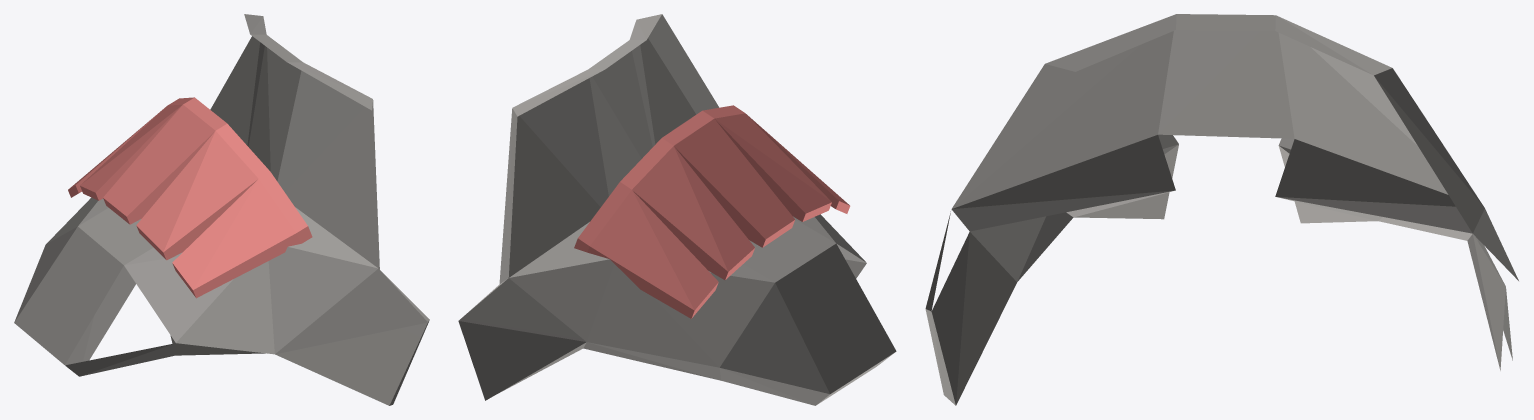
Rendered from pauldron_red_a.glb.
3 views of the same model, side by side, from view 1: azimuth 30°, elevation 25°; view 2: azimuth 150°, elevation 25°; view 3: azimuth 270°, elevation 25° (orthographic). The views are drawn at different scales.
Parts seen in each view (by area): view 1: group1476969419; view 2: group1476969419; view 3: group1476969419.
Part boxes in pixels (left/top/right/bottom): group1476969419: left=14, top=14, right=429, bottom=405; group1476969419: left=458, top=14, right=896, bottom=405; group1476969419: left=925, top=14, right=1518, bottom=405.
Size of the model in its own units: 0.2194 by 0.2145 by 0.306.
